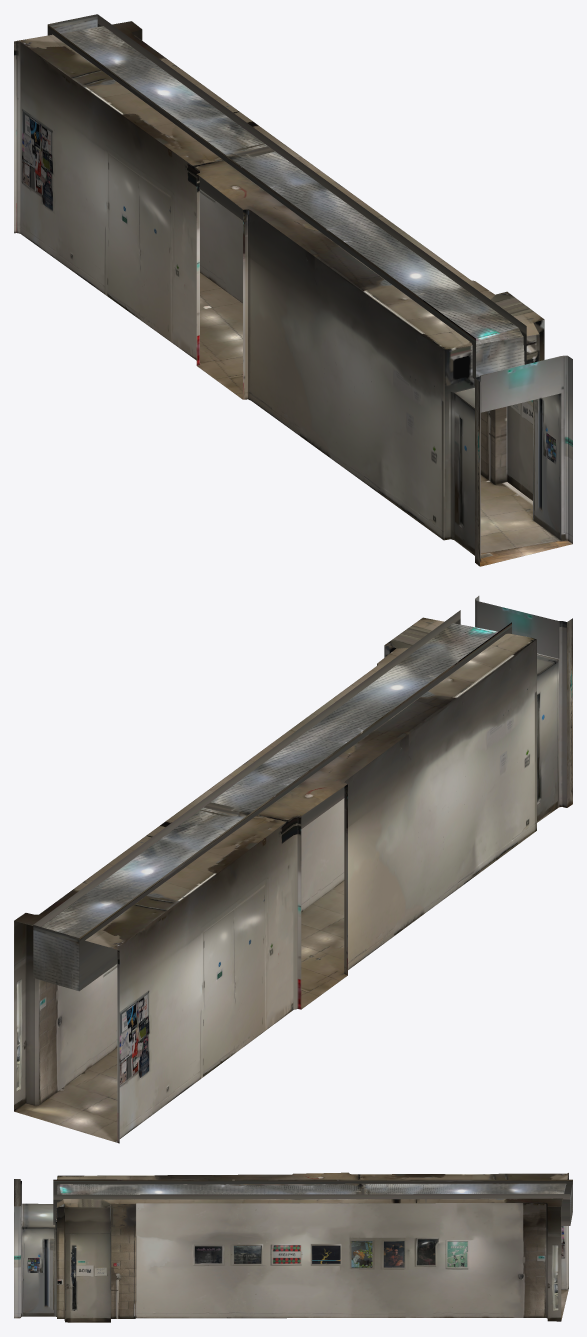
The model's file is 1-corr-v4LP.fbx.
3 views of the same model, one above another, from view 1: azimuth 30°, elevation 25°; view 2: azimuth 150°, elevation 25°; view 3: azimuth 270°, elevation 25° (orthographic). The views are drawn at different scales.
Visible parts, largest first — view 1: 1-corr-v4LP; view 2: 1-corr-v4LP; view 3: 1-corr-v4LP.
Boxes of the visible parts, bbox=[...] form: 1-corr-v4LP: bbox=[14, 14, 572, 566]; 1-corr-v4LP: bbox=[14, 596, 572, 1143]; 1-corr-v4LP: bbox=[14, 1172, 572, 1322].
Bounding box in the file's own units: 198 × 324 × 1372.
Materials: 1 (1 with a texture image).
